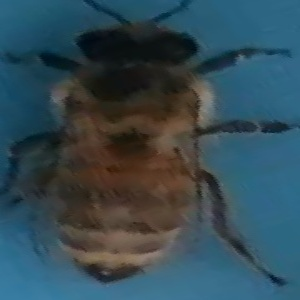bee: (15, 5, 293, 287)
